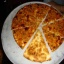pizza: (13, 5, 62, 58)
